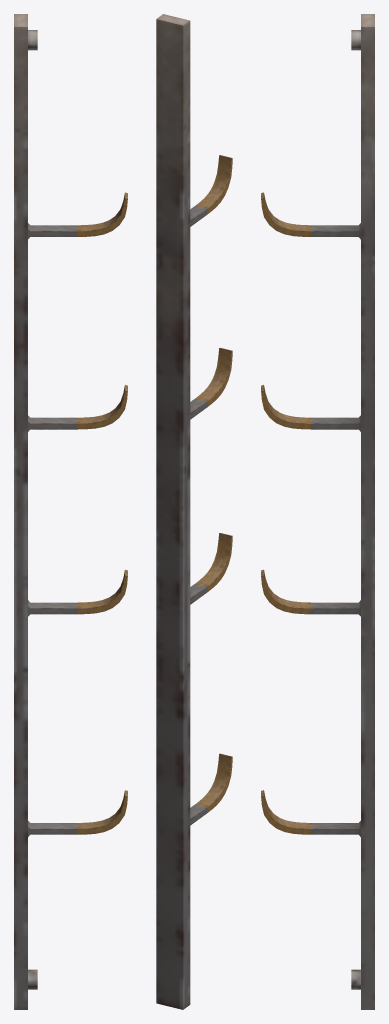
Rendered from HJ_MKHZ_003_02.FBX.
3 renders of one model, left to right at view 1: azimuth 90°, elevation 25°; view 2: azimuth 150°, elevation 25°; view 3: azimuth 270°, elevation 25°, orthographic.
Visible parts, largest first — view 1: HJ_MKHZ_003_02; view 2: HJ_MKHZ_003_02; view 3: HJ_MKHZ_003_02.
Part boxes in pixels (box(x1,y1,x2,y2)): HJ_MKHZ_003_02: box(14, 14, 127, 1009); HJ_MKHZ_003_02: box(156, 14, 232, 1009); HJ_MKHZ_003_02: box(261, 14, 374, 1009).
Size of the model in its own units: 0.0717 by 2.5 by 0.2624.
1 material, 1 textured.
